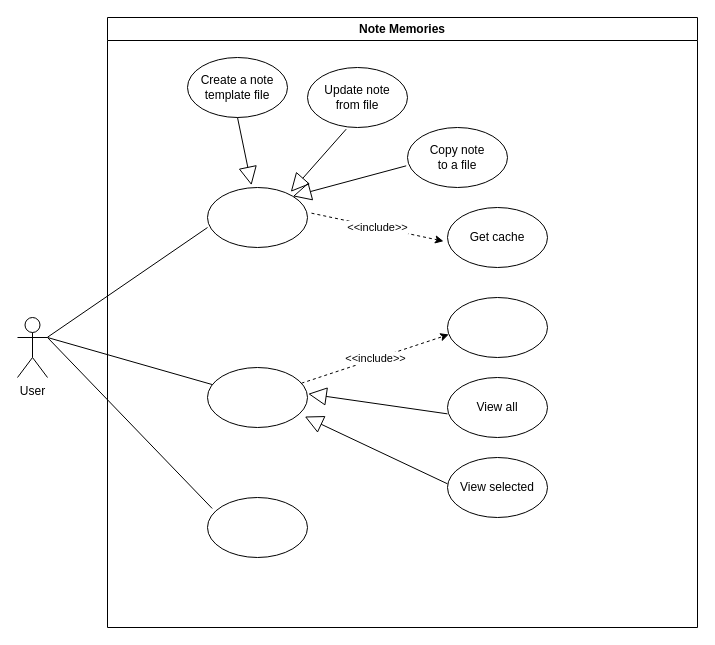
The diagram is 715 pixels wide and 645 high, and some of its shapes have lost their labels. Here are the shapes that lost their labels. From the top down, the centre of each, then its label:
the point at 257,217: Edit
the point at 497,327: Write cache
the point at 257,397: View
the point at 257,527: Bash
